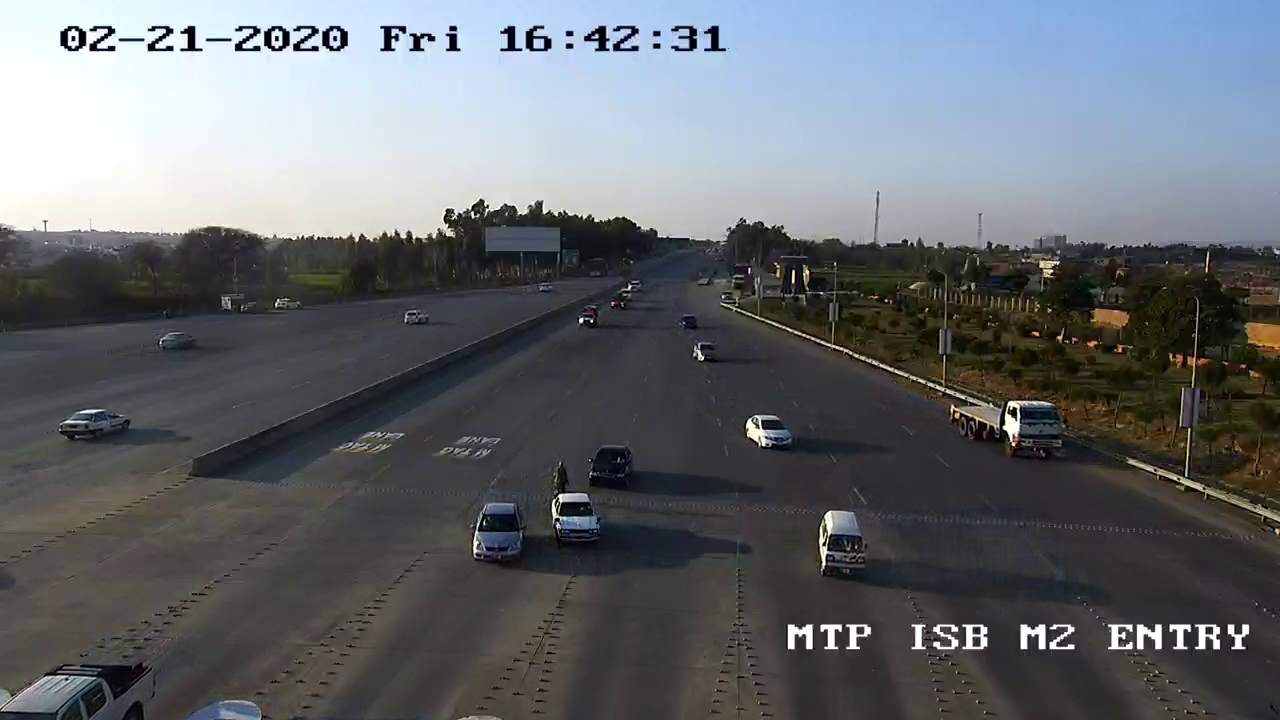f1: (804, 499, 875, 582), (540, 486, 612, 551), (466, 495, 524, 564), (737, 398, 797, 460), (580, 441, 642, 491)
f5: (937, 371, 1077, 477)
